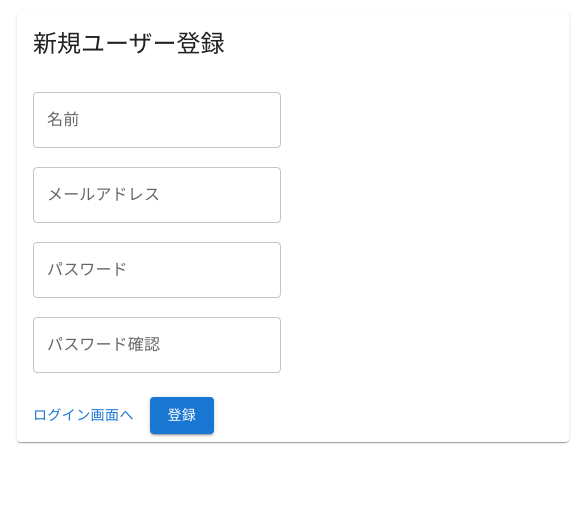
TalkRoomListItem › NewUserEmail › 正しくない形式でエラー
In the field with test id "NewUserEmail": {"x": 157, "y": 195} x1=33 y1=167 x2=281 y2=223, type "hogehoge"
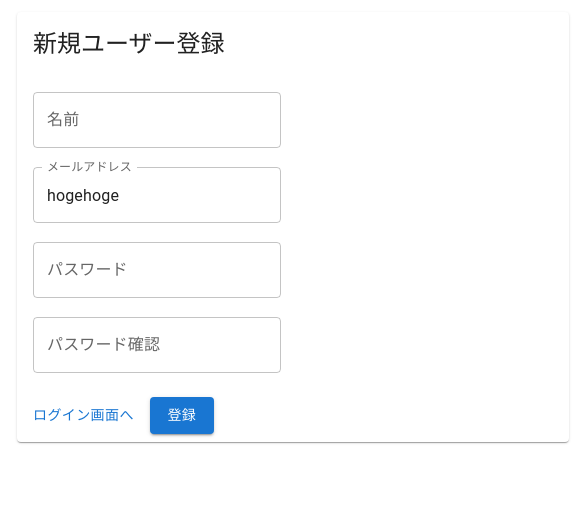
Click the button with test id "submitBtn": {"x": 182, "y": 415} x1=150 y1=397 x2=214 y2=434
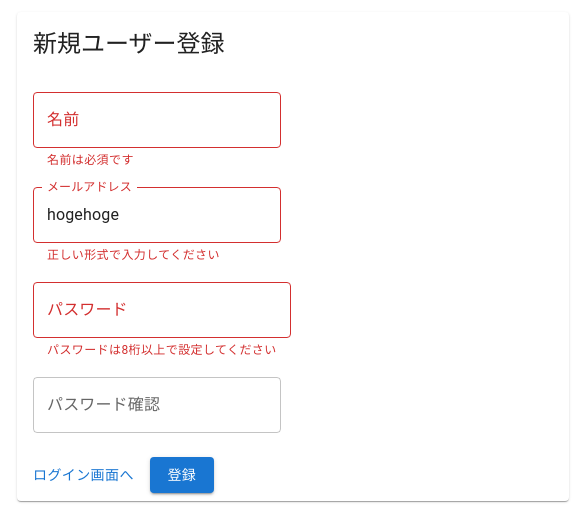
Expected: the text with test id "NewUserEmailErr" reads "正しい形式で入力してください", x1=47 y1=248 x2=220 y2=262
